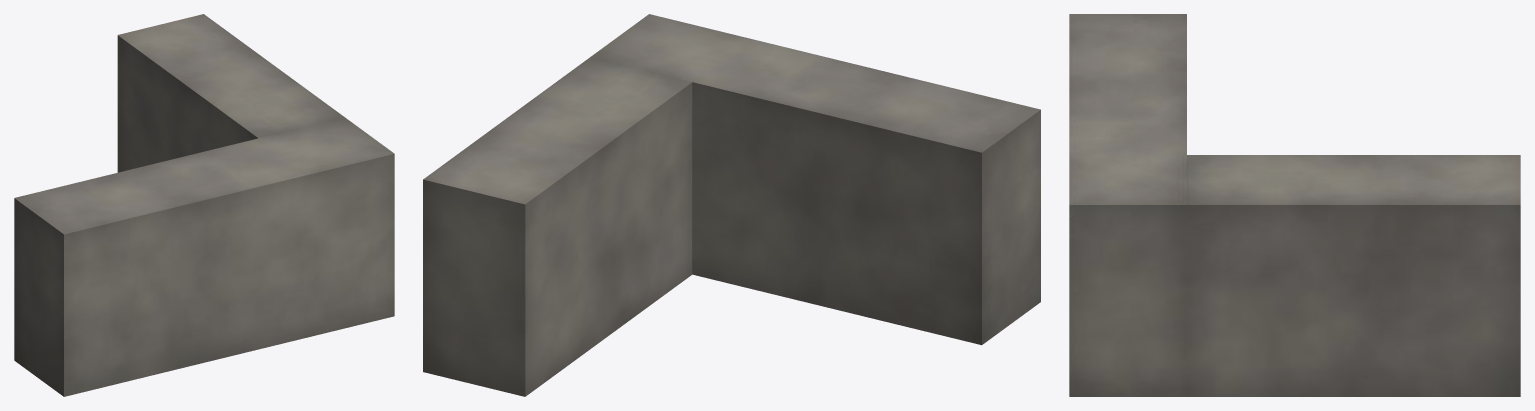
Rendered from curb_corner_idle.glb.
The picture shows the model from 3 angles, left to right: view 1: azimuth 30°, elevation 25°; view 2: azimuth 150°, elevation 25°; view 3: azimuth 270°, elevation 25°; orthographic projection. The views are drawn at different scales.
Visible parts, largest first — view 1: curb_corner; view 2: curb_corner; view 3: curb_corner.
Part boxes in pixels (x1,y1,x2,y2): curb_corner: (14,14,394,396); curb_corner: (423,14,1040,396); curb_corner: (1069,14,1520,396).
Size of the model in its own units: 0.575 by 0.27 by 0.575.
Materials: 1 (1 with a texture image).
